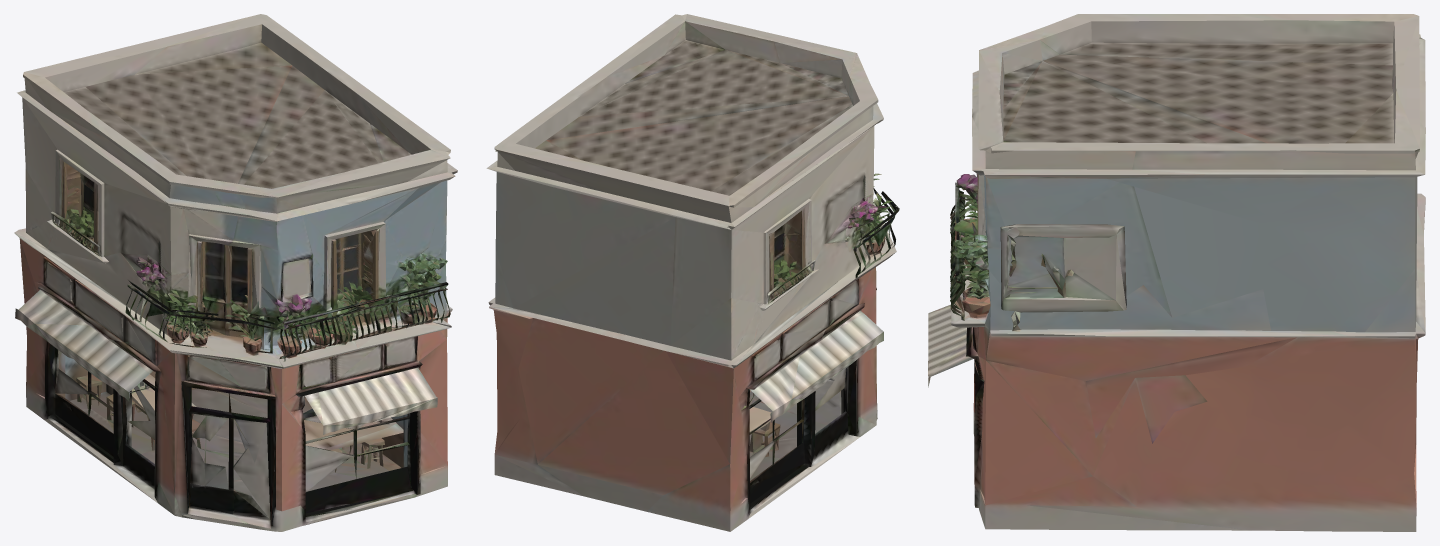
The model's file is cafe.glb.
The picture shows the model from 3 angles, left to right: view 1: azimuth 30°, elevation 25°; view 2: azimuth 150°, elevation 25°; view 3: azimuth 270°, elevation 25°; orthographic projection. The views are drawn at different scales.
Parts seen in each view (by area): view 1: Mesh_0; view 2: Mesh_0; view 3: Mesh_0.
Part boxes in pixels (x1=…): Mesh_0: x1=14, y1=14, x2=457, y2=531; Mesh_0: x1=486, y1=14, x2=899, y2=531; Mesh_0: x1=928, y1=14, x2=1425, y2=531.
Size of the model in its own units: 4.28 by 5 by 5.9.
1 material, 1 textured.
